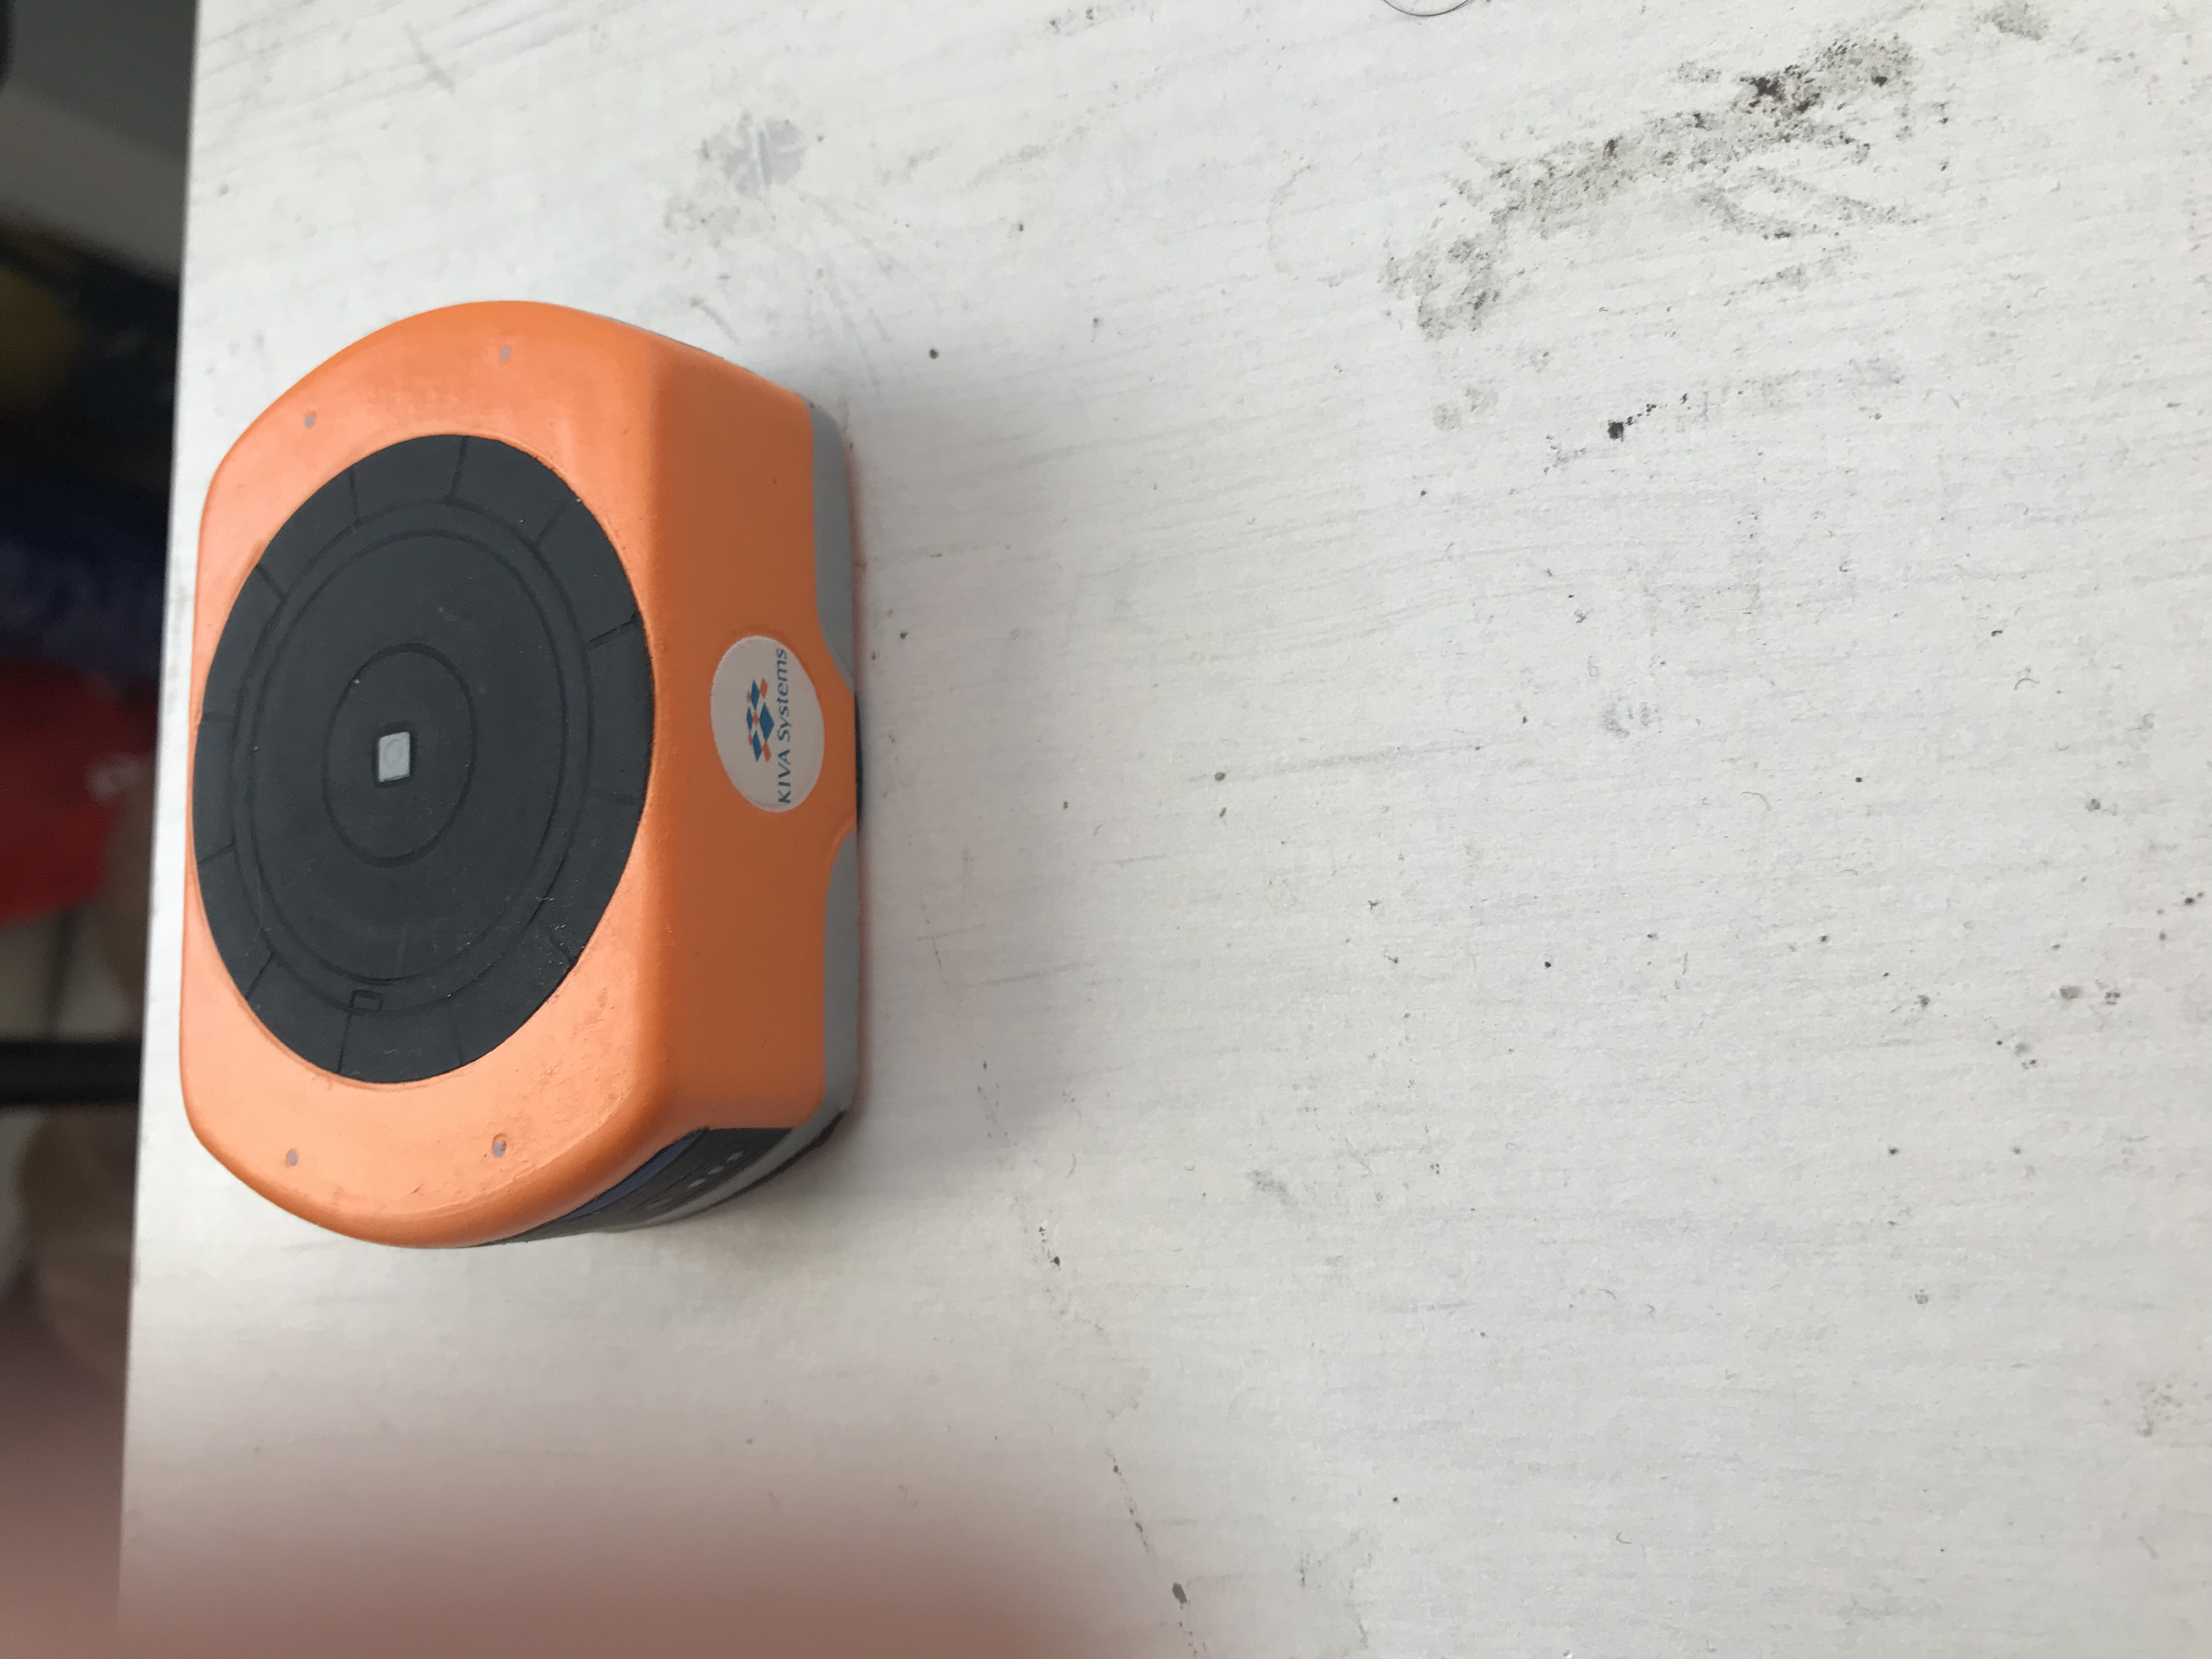amazon_bot: (162, 289, 1035, 1319)
